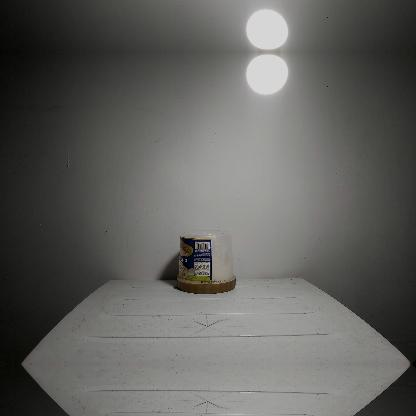Lady-s-Choice: (176, 228, 236, 294)
